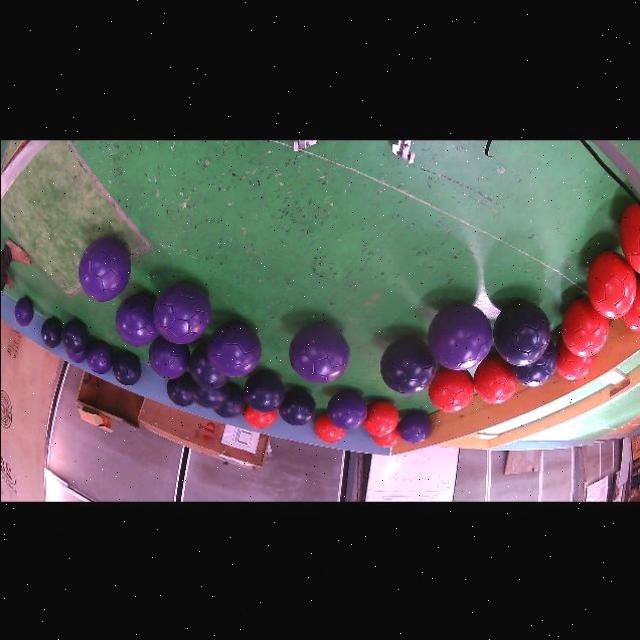B: (492, 298, 549, 365), (379, 335, 436, 392), (510, 340, 556, 386), (188, 342, 228, 387), (242, 370, 284, 411), (277, 387, 315, 425), (213, 383, 246, 418), (190, 381, 229, 408), (111, 351, 140, 384), (165, 371, 193, 405), (61, 318, 87, 352), (41, 316, 61, 346)
P: (427, 301, 491, 370), (289, 322, 349, 382), (153, 281, 211, 342), (77, 236, 130, 299), (206, 321, 261, 376), (115, 292, 158, 346), (148, 335, 189, 377), (326, 389, 367, 428), (397, 410, 431, 443), (86, 340, 112, 372), (13, 296, 33, 325), (65, 346, 86, 362)
R: (585, 249, 636, 317), (560, 296, 608, 356), (472, 353, 517, 403), (427, 366, 473, 411), (555, 338, 594, 380), (619, 201, 640, 272), (362, 399, 398, 435), (622, 275, 640, 331), (314, 413, 345, 442), (242, 406, 276, 428), (370, 426, 401, 447)
